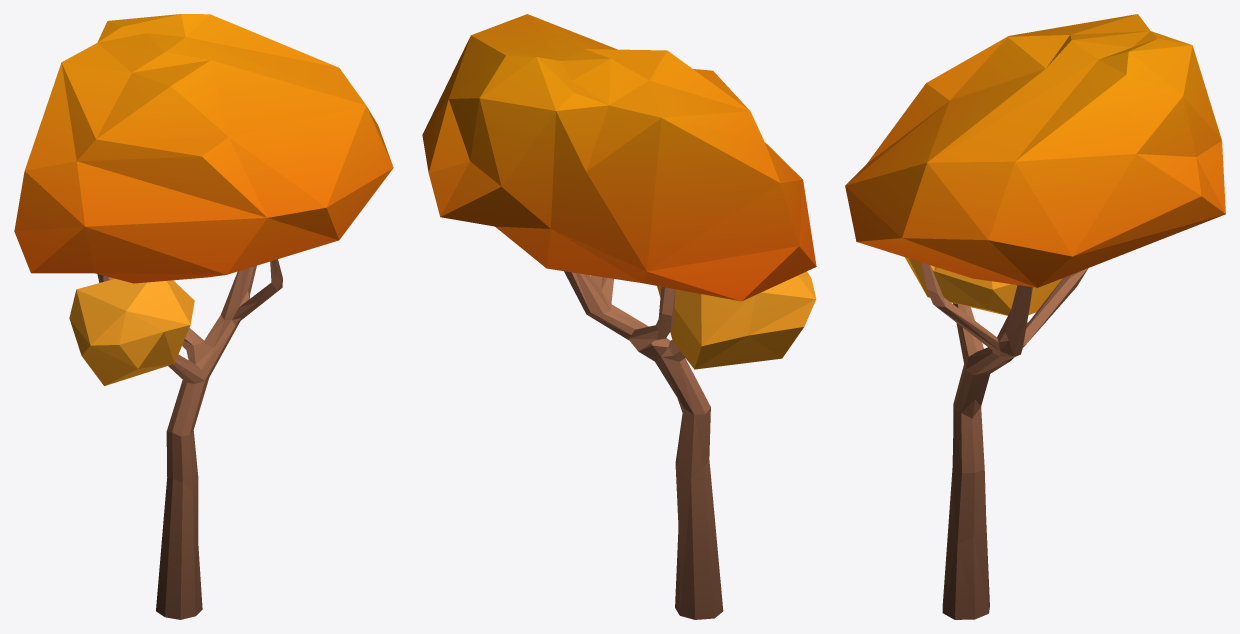
The model's file is autumn tree 10.fbx.
The picture shows the model from 3 angles, left to right: view 1: azimuth 30°, elevation 25°; view 2: azimuth 150°, elevation 25°; view 3: azimuth 270°, elevation 25°; orthographic projection. The views are drawn at different scales.
Visible parts, largest first — view 1: autumn tree 10; view 2: autumn tree 10; view 3: autumn tree 10.
Boxes of the visible parts, box(x1,y1,x2,y2) form: autumn tree 10: box(14, 14, 393, 619); autumn tree 10: box(422, 14, 816, 619); autumn tree 10: box(845, 14, 1225, 619).
Size of the model in its own units: 413 by 618 by 356.
